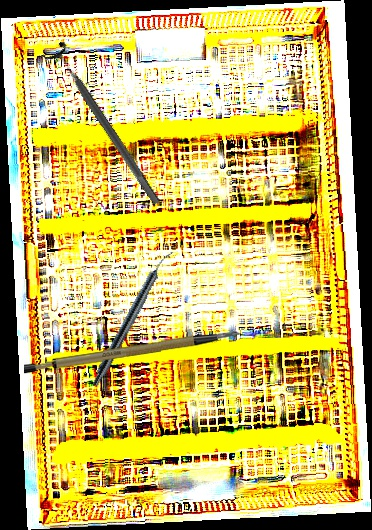Fixation Ring: (40, 39, 169, 212)
Handpiece: (89, 246, 175, 390)
Scalpel Handle: (23, 330, 241, 377)
